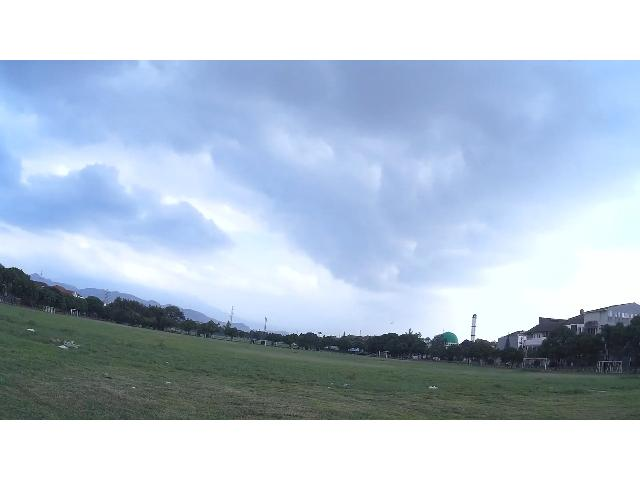Anti-Drone: (384, 316, 400, 328)
